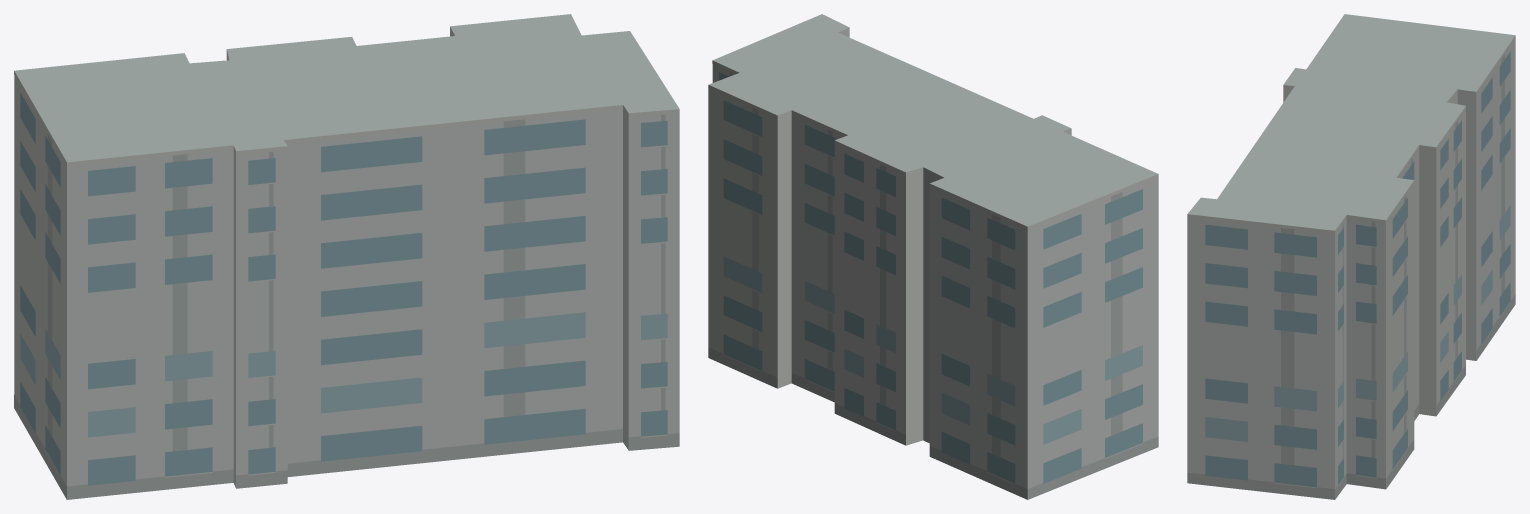
The model's file is survey-upis-32763739.glb.
The picture shows the model from 3 angles, left to right: view 1: azimuth 30°, elevation 25°; view 2: azimuth 150°, elevation 25°; view 3: azimuth 270°, elevation 25°; orthographic projection. The views are drawn at different scales.
Visible parts, largest first — view 1: survey-upis-32763739.tmp; view 2: survey-upis-32763739.tmp; view 3: survey-upis-32763739.tmp.
Part boxes in pixels (<box>): survey-upis-32763739.tmp: <box>14,14,679,499</box>; survey-upis-32763739.tmp: <box>708,14,1158,499</box>; survey-upis-32763739.tmp: <box>1187,14,1515,499</box>.
Size of the model in its own units: 34.55 by 20 by 22.11.
